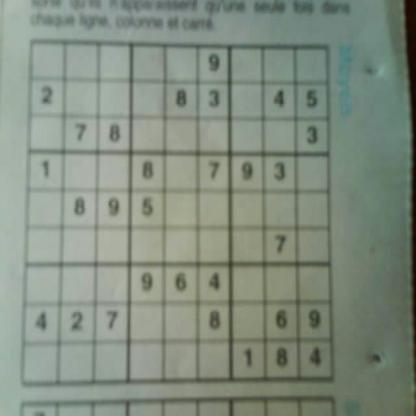sudoku: (17, 33, 341, 392)
